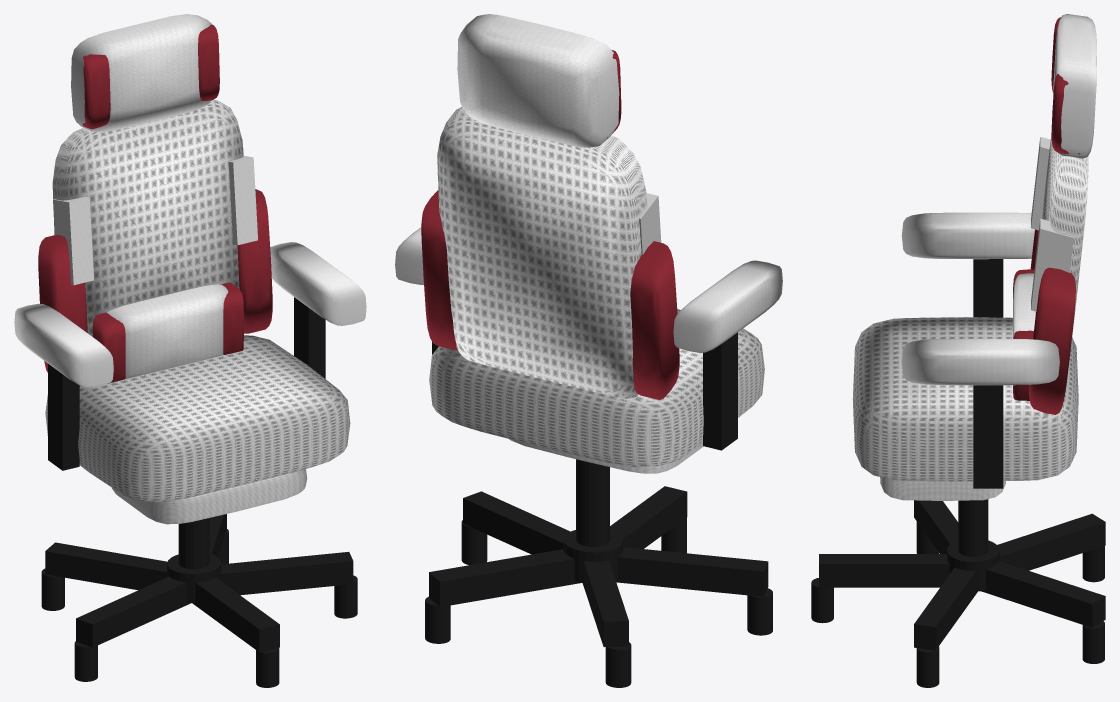
3 views of the same model, side by side, from view 1: azimuth 30°, elevation 25°; view 2: azimuth 150°, elevation 25°; view 3: azimuth 270°, elevation 25° (orthographic). The views are drawn at different scales.
Parts seen in each view (by area): view 1: 1 seat, 3 backrest, 8 headrest, 11 lumbar_pillow, 14 armrest_left_pad, 15 armrest_right_pad, 21 base_spoke_2, 2 footrest, 24 base_spoke_5, 23 base_spoke_4, 5 backrest_red_right, 20 base_spoke_1 (+16 smaller); view 2: 3 backrest, 1 seat, 8 headrest, 4 backrest_red_left, 14 armrest_left_pad, 24 base_spoke_5, 22 base_spoke_3, 21 base_spoke_2, 5 backrest_red_right, 16 armrest_left_support, 20 base_spoke_1, 18 gas_lift (+10 smaller); view 3: 1 seat, 15 armrest_right_pad, 14 armrest_left_pad, 8 headrest, 20 base_spoke_1, 22 base_spoke_3, 5 backrest_red_right, 3 backrest, 23 base_spoke_4, 17 armrest_right_support, 21 base_spoke_2, 2 footrest (+12 smaller).
Boxes of the visible parts, x1=… form: 1 seat: x1=45, y1=335, x2=350, y2=502; 3 backrest: x1=52, y1=99, x2=243, y2=336; 8 headrest: x1=71, y1=14, x2=212, y2=132; 11 lumbar_pillow: x1=107, y1=284, x2=228, y2=378; 14 armrest_left_pad: x1=14, y1=303, x2=113, y2=387; 15 armrest_right_pad: x1=270, y1=242, x2=366, y2=325; 21 base_spoke_2: x1=220, y1=552, x2=353, y2=595; 2 footrest: x1=112, y1=469, x2=307, y2=524; 24 base_spoke_5: x1=76, y1=576, x2=191, y2=647; 23 base_spoke_4: x1=45, y1=542, x2=167, y2=590; 5 backrest_red_right: x1=237, y1=189, x2=272, y2=333; 20 base_spoke_1: x1=192, y1=577, x2=279, y2=652; 3 backrest: x1=437, y1=107, x2=647, y2=398; 1 seat: x1=429, y1=309, x2=764, y2=467; 8 headrest: x1=457, y1=14, x2=619, y2=147; 4 backrest_red_left: x1=630, y1=241, x2=679, y2=399; 14 armrest_left_pad: x1=673, y1=260, x2=782, y2=352; 24 base_spoke_5: x1=616, y1=547, x2=768, y2=596; 22 base_spoke_3: x1=429, y1=549, x2=581, y2=607; 21 base_spoke_2: x1=463, y1=491, x2=570, y2=554; 5 backrest_red_right: x1=421, y1=190, x2=457, y2=350; 16 armrest_left_support: x1=703, y1=332, x2=737, y2=450; 20 base_spoke_1: x1=610, y1=486, x2=687, y2=548; 18 gas_lift: x1=576, y1=459, x2=609, y2=546; 1 seat: x1=852, y1=317, x2=1078, y2=481; 15 armrest_right_pad: x1=901, y1=338, x2=1059, y2=385; 14 armrest_left_pad: x1=901, y1=212, x2=1034, y2=259; 8 headrest: x1=1053, y1=14, x2=1096, y2=158; 20 base_spoke_1: x1=819, y1=554, x2=949, y2=587; 22 base_spoke_3: x1=980, y1=561, x2=1105, y2=627; 5 backrest_red_right: x1=1028, y1=267, x2=1075, y2=414; 3 backrest: x1=1035, y1=135, x2=1088, y2=365; 23 base_spoke_4: x1=997, y1=513, x2=1105, y2=570; 17 armrest_right_support: x1=973, y1=385, x2=1003, y2=488; 21 base_spoke_2: x1=914, y1=567, x2=977, y2=650; 2 footrest: x1=880, y1=477, x2=1005, y2=500.
Size of the model in its own units: 0.53 by 1 by 0.46.
8 materials, 6 textured.
